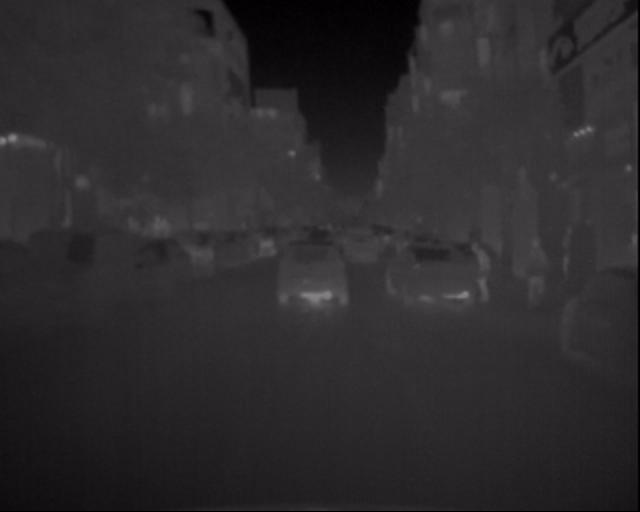person: (517, 213, 563, 315), (464, 228, 503, 304)
